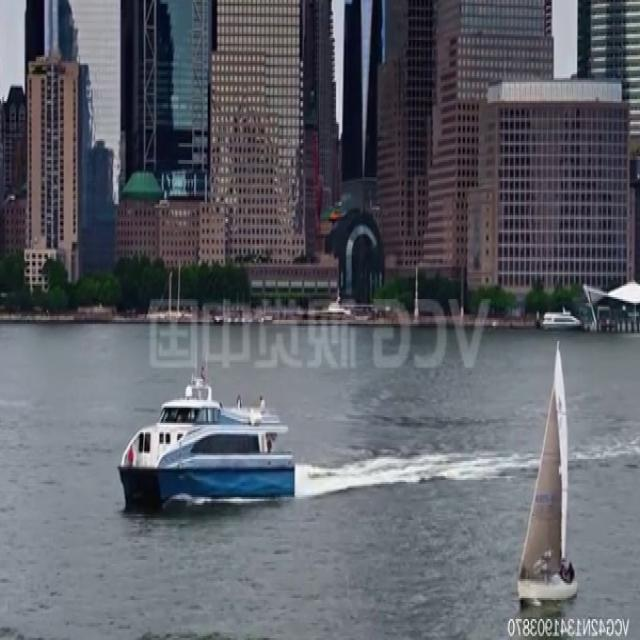houseboat: (118, 378, 299, 506), (538, 304, 584, 330)
sailboat: (512, 346, 584, 608)
